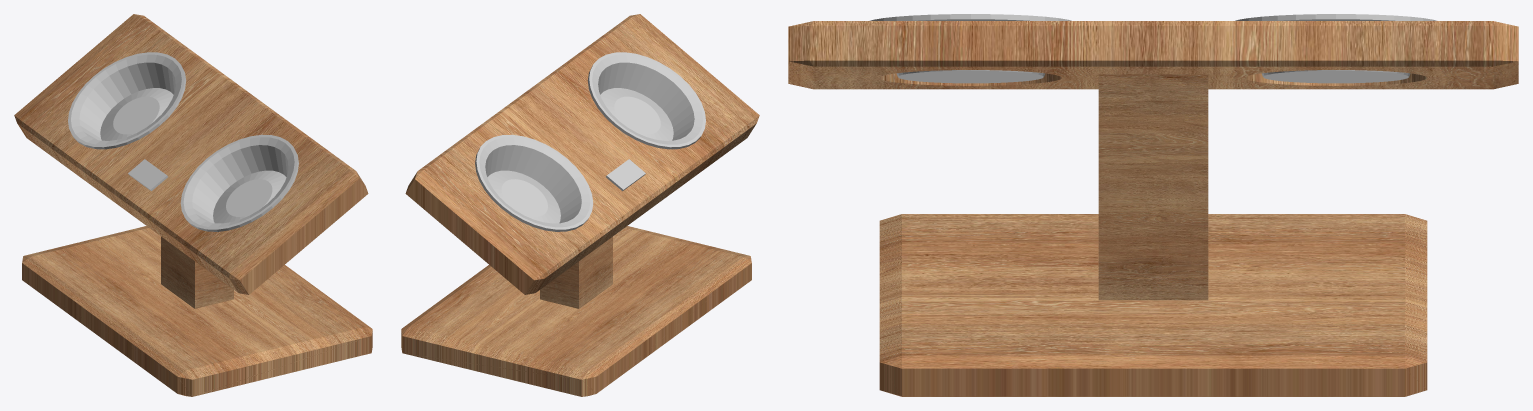
File: PetBowlOBJ.obj
The picture shows the model from 3 angles, left to right: view 1: azimuth 30°, elevation 25°; view 2: azimuth 150°, elevation 25°; view 3: azimuth 270°, elevation 25°; orthographic projection. The views are drawn at different scales.
Parts seen in each view (by area): view 1: Plano, Plano.001, Círculo.001_Círculo.006, Círculo_Círculo.004, Plano.002; view 2: Plano, Plano.001, Círculo_Círculo.004, Círculo.001_Círculo.006, Plano.002; view 3: Plano.001, Plano, Círculo_Círculo.004, Círculo.001_Círculo.006.
Part boxes in pixels (x1=…): Plano: x1=14, y1=14, x2=368, y2=294; Plano.001: x1=22, y1=226, x2=372, y2=396; Círculo.001_Círculo.006: x1=68, y1=52, x2=186, y2=149; Círculo_Círculo.004: x1=180, y1=134, x2=298, y2=231; Plano.002: x1=128, y1=159, x2=167, y2=191; Plano: x1=405, y1=14, x2=759, y2=294; Plano.001: x1=401, y1=226, x2=751, y2=396; Círculo_Círculo.004: x1=587, y1=52, x2=705, y2=149; Círculo.001_Círculo.006: x1=475, y1=134, x2=593, y2=231; Plano.002: x1=606, y1=159, x2=645, y2=191; Plano.001: x1=879, y1=74, x2=1427, y2=396; Plano: x1=788, y1=21, x2=1518, y2=89; Círculo_Círculo.004: x1=870, y1=14, x2=1071, y2=83; Círculo.001_Círculo.006: x1=1235, y1=14, x2=1436, y2=83.
Bounding box in the file's own units: 4 × 4.15 × 8.
Materials: 3 (2 with a texture image).
